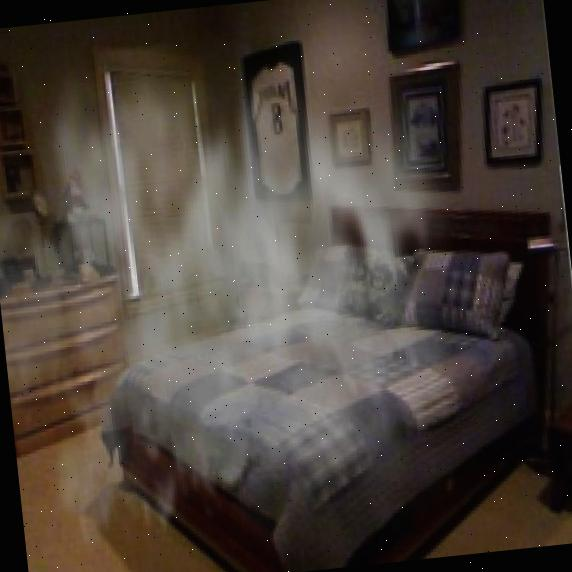smoke: (0, 12, 519, 572)
